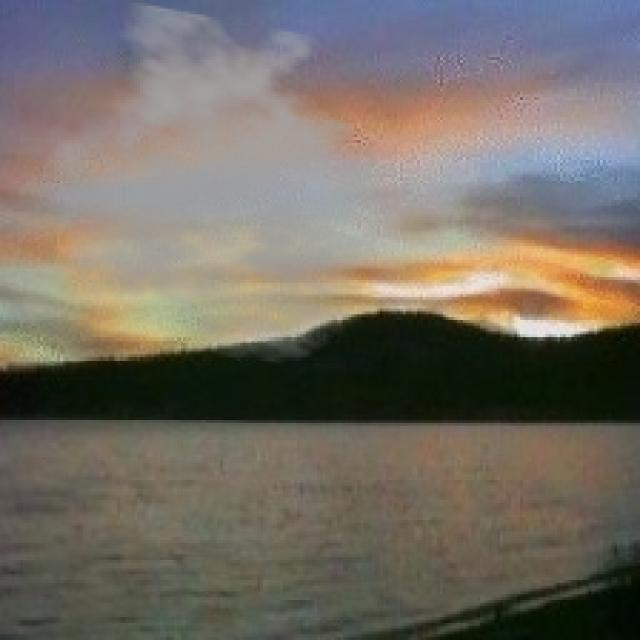Smoke: (23, 0, 420, 366)
